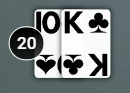10: (32, 8, 62, 37)
k: (59, 6, 86, 37)
